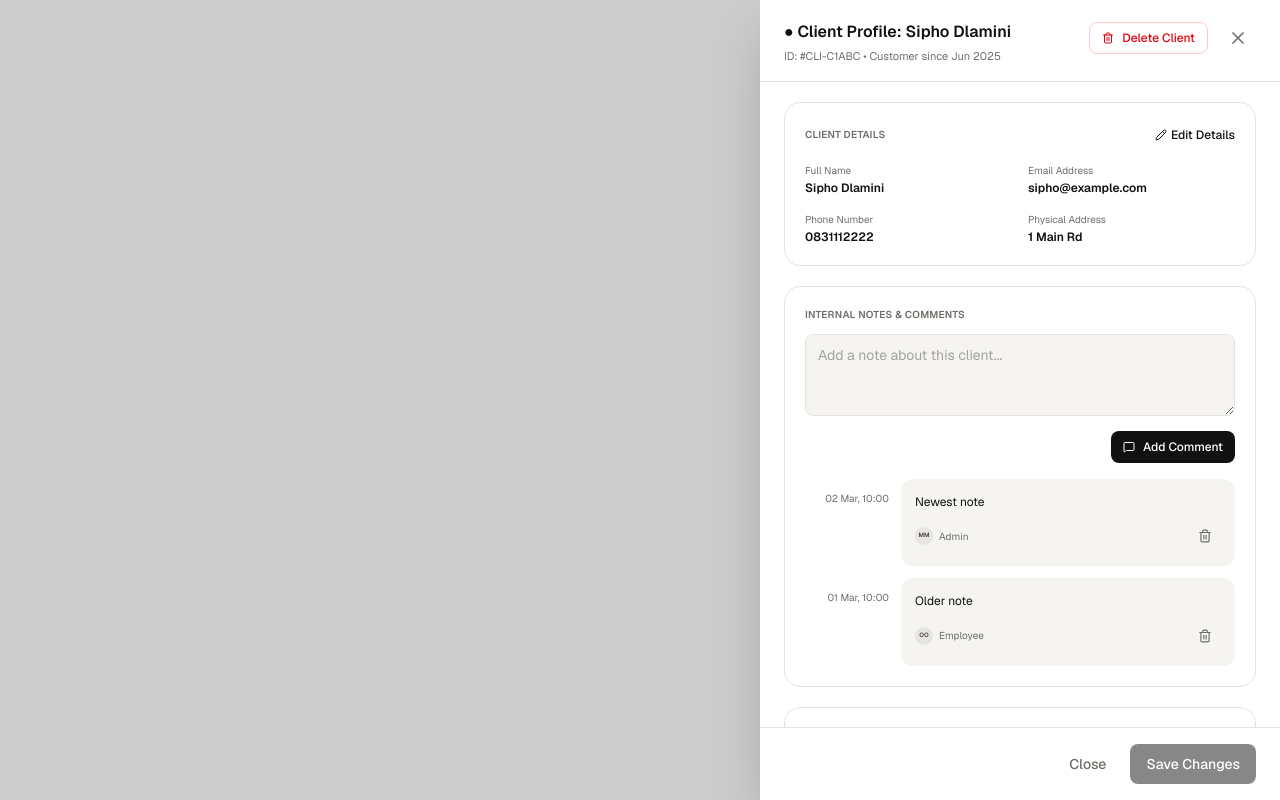
Scenario: deleting the client › asks for confirmation first
The width and height of the screenshot is (1280, 800).
Expected: the heading "● Client Profile: Sipho Dlamini" is shown, left=784, top=20, right=1011, bottom=44
Click the button "Delete Client" at (1149, 38), box left=1089, top=22, right=1208, bottom=54
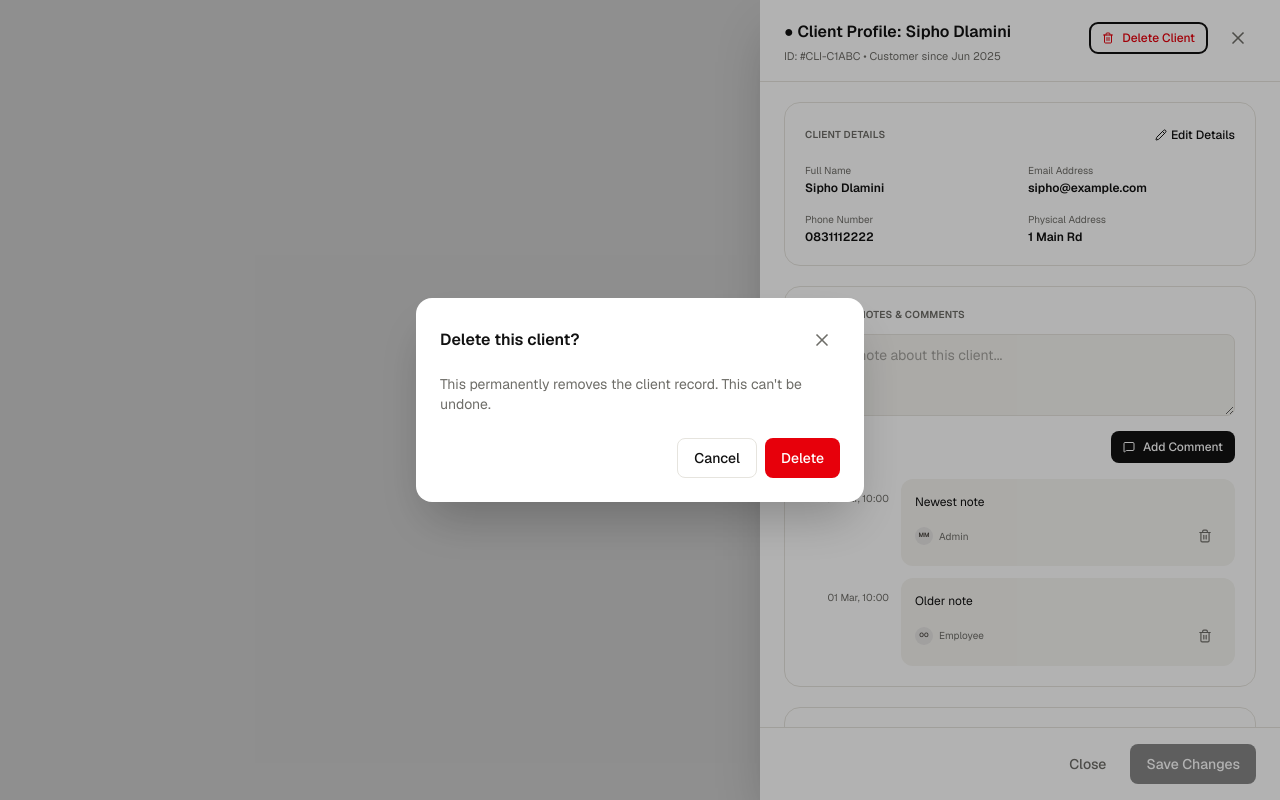
Now the heading "Delete this client?" is shown, box left=440, top=328, right=580, bottom=352
